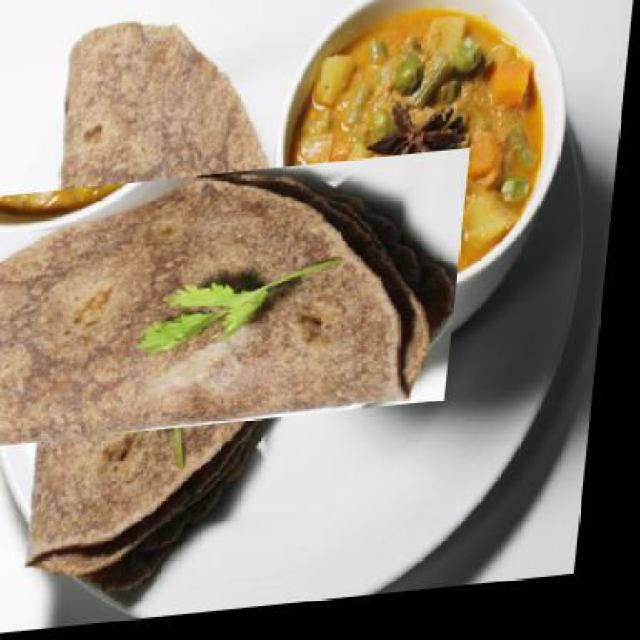chapati: (0, 83, 403, 532)
